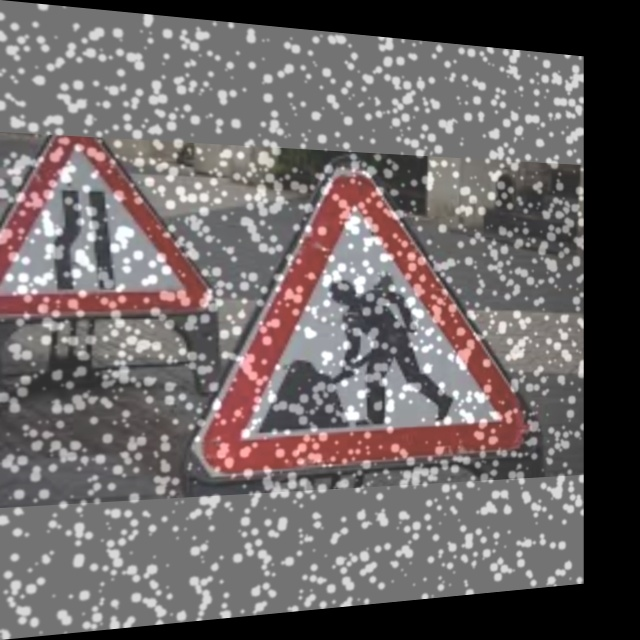Men_at_Work: (193, 185, 524, 487)
